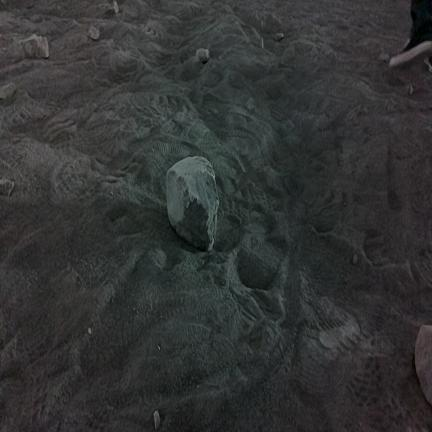Rock: (166, 156, 219, 251), (415, 325, 431, 404), (19, 34, 48, 58), (280, 46, 295, 66), (0, 82, 16, 98), (0, 179, 14, 196), (196, 49, 209, 63), (246, 97, 256, 111), (89, 26, 99, 40), (109, 0, 119, 13), (154, 411, 160, 429), (379, 53, 389, 62), (274, 33, 283, 42), (409, 85, 413, 95), (353, 255, 357, 264)
